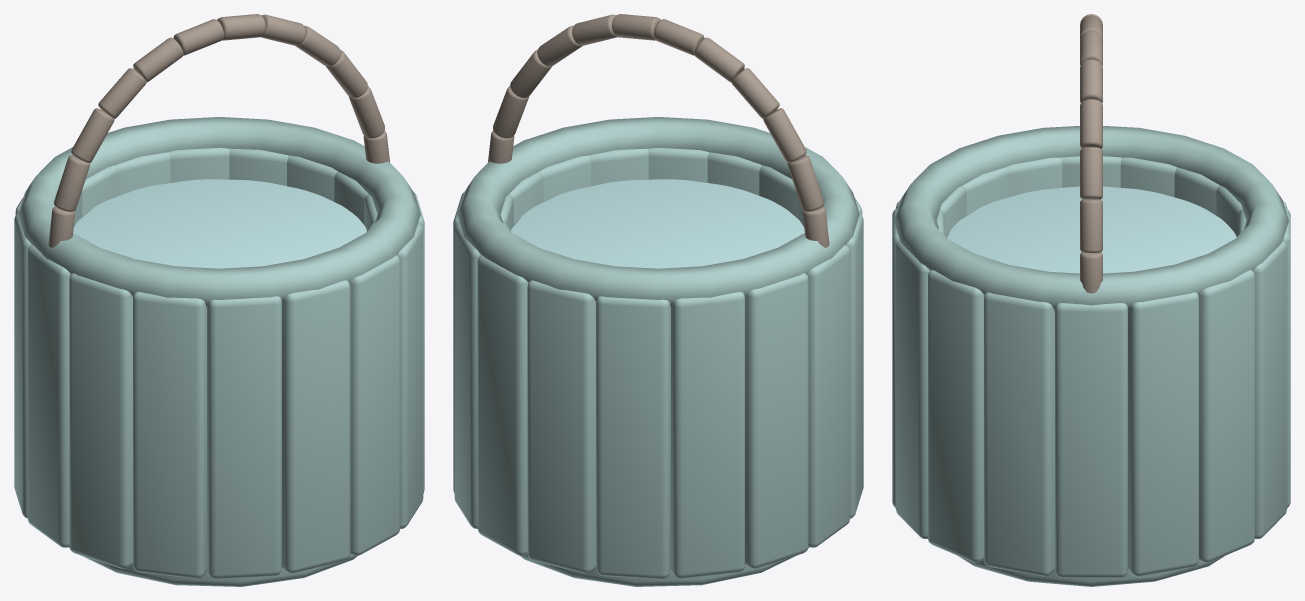
File: water-bucket-carried.glb
The picture shows the model from 3 angles, left to right: view 1: azimuth 30°, elevation 25°; view 2: azimuth 150°, elevation 25°; view 3: azimuth 270°, elevation 25°; orthographic projection.
Parts seen in each view (by area): view 1: Bucket lip.003, Bucket wall.059, Bucket wall.058, Water.002, Bucket wall.060, Bucket wall.057, Bucket wall.061, Bucket wall.056, Bucket wall.062, Bucket wall.055, Bucket base.003, Bucket wall.051 (+18 smaller); view 2: Bucket lip.003, Bucket wall.053, Bucket wall.054, Water.002, Bucket wall.052, Bucket wall.055, Bucket wall.051, Bucket wall.056, Bucket wall.050, Bucket wall.057, Bucket base.003, Bucket wall.061 (+18 smaller); view 3: Bucket lip.003, Bucket wall.048, Bucket wall.049, Bucket wall.063, Water.002, Bucket wall.050, Bucket wall.062, Bucket wall.051, Bucket wall.061, Bucket base.003, Bucket wall.055, Bucket wall.057 (+13 smaller).
Boxes of the visible parts, x1,y1,x2,y2 form: Bucket lip.003: [18, 117, 420, 308]; Bucket wall.059: [207, 296, 281, 579]; Bucket wall.058: [133, 292, 207, 578]; Water.002: [73, 179, 366, 268]; Bucket wall.060: [282, 280, 350, 573]; Bucket wall.057: [69, 273, 132, 568]; Bucket wall.061: [349, 255, 400, 555]; Bucket wall.056: [27, 245, 70, 547]; Bucket wall.062: [367, 220, 423, 528]; Bucket wall.055: [14, 213, 31, 518]; Bucket base.003: [69, 547, 357, 586]; Bucket wall.051: [169, 147, 229, 182]; Bucket lip.003: [457, 117, 859, 308]; Bucket wall.053: [596, 296, 670, 579]; Bucket wall.054: [670, 292, 744, 578]; Water.002: [511, 179, 804, 268]; Bucket wall.052: [527, 280, 595, 573]; Bucket wall.055: [745, 273, 808, 568]; Bucket wall.051: [477, 255, 528, 555]; Bucket wall.056: [807, 245, 850, 547]; Bucket wall.050: [454, 220, 510, 528]; Bucket wall.057: [846, 213, 863, 518]; Bucket base.003: [520, 547, 808, 586]; Bucket wall.061: [648, 147, 708, 182]; Bucket lip.003: [894, 126, 1288, 311]; Bucket wall.048: [1055, 303, 1127, 577]; Bucket wall.049: [1128, 292, 1198, 576]; Bucket wall.063: [984, 292, 1054, 576]; Water.002: [946, 186, 1236, 273]; Bucket wall.050: [1198, 269, 1254, 562]; Bucket wall.062: [928, 269, 984, 562]; Bucket wall.051: [1253, 241, 1287, 538]; Bucket wall.061: [895, 241, 929, 538]; Bucket base.003: [957, 555, 1225, 586]; Bucket wall.055: [1120, 157, 1176, 197]; Bucket wall.057: [1006, 157, 1062, 197].
Bounding box in the file's own units: 0.656 × 0.888 × 0.656.
